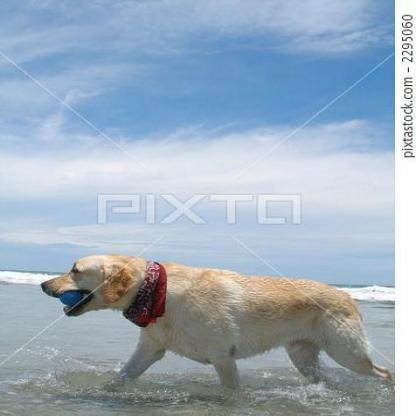Labarador Retriever: (39, 252, 397, 390)
